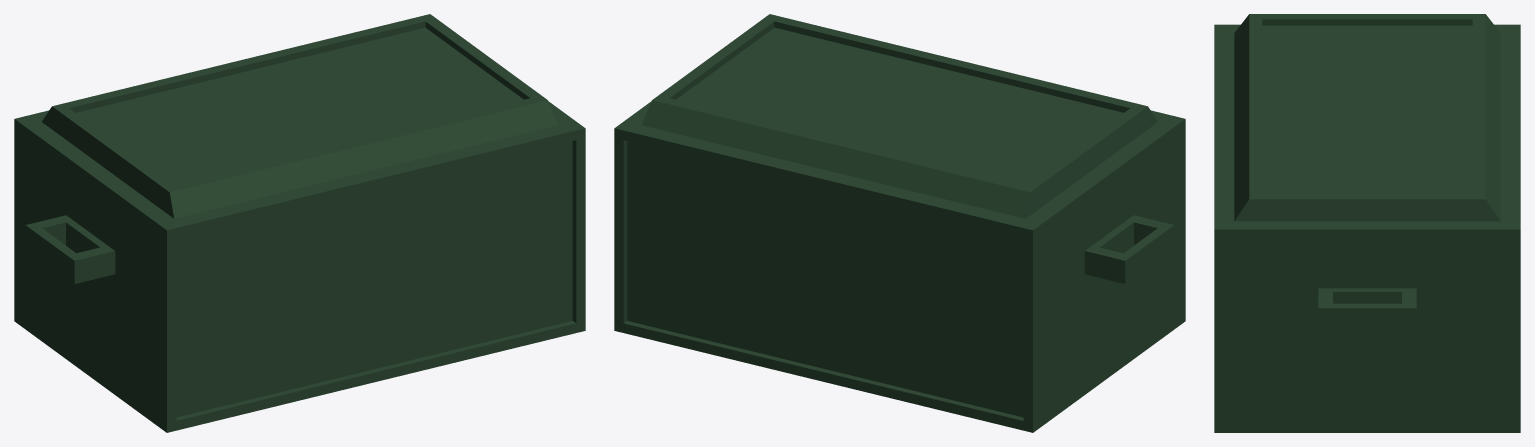
File: WoodCargo.fbx
3 renders of one model, left to right at view 1: azimuth 30°, elevation 25°; view 2: azimuth 150°, elevation 25°; view 3: azimuth 270°, elevation 25°, orthographic.
Visible parts, largest first — view 1: Cube.001; view 2: Cube.001; view 3: Cube.001.
Boxes of the visible parts, x1=… form: Cube.001: x1=14, y1=14, x2=585, y2=432; Cube.001: x1=614, y1=14, x2=1185, y2=432; Cube.001: x1=1214, y1=14, x2=1520, y2=432.
Size of the model in its own units: 134 by 56.99 by 70.66.
